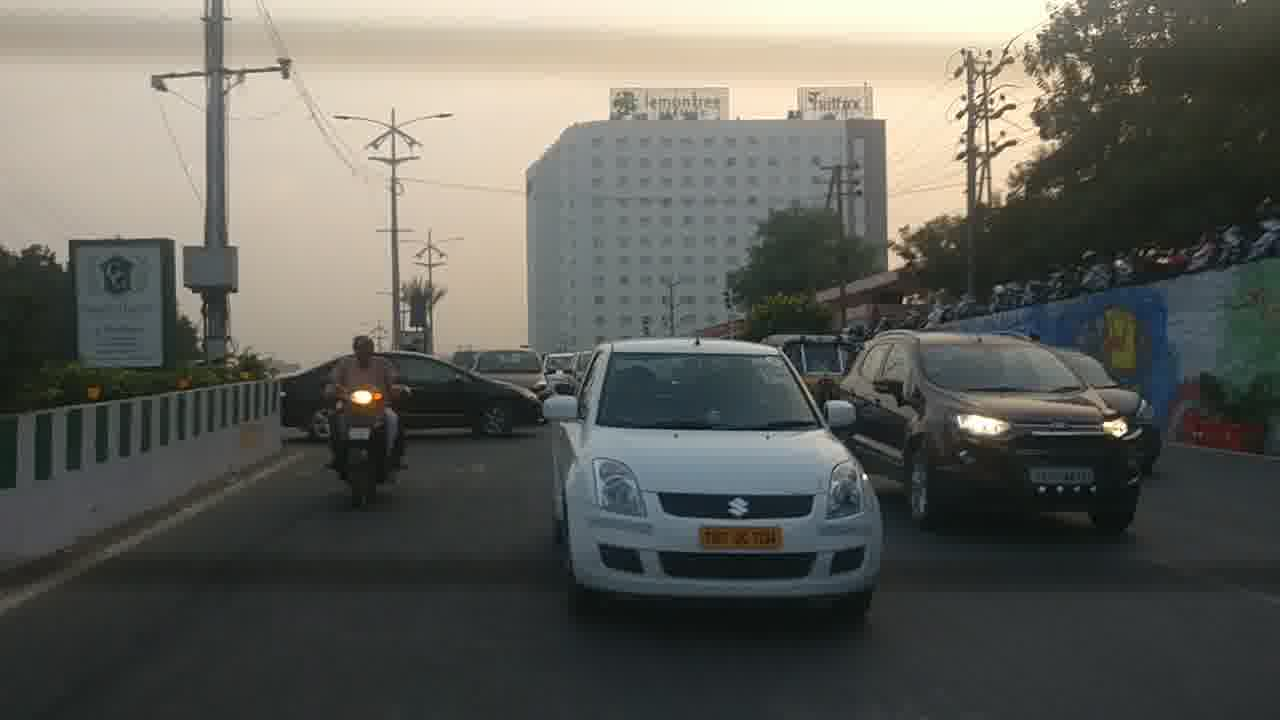swift desire: (544, 337, 877, 597)
